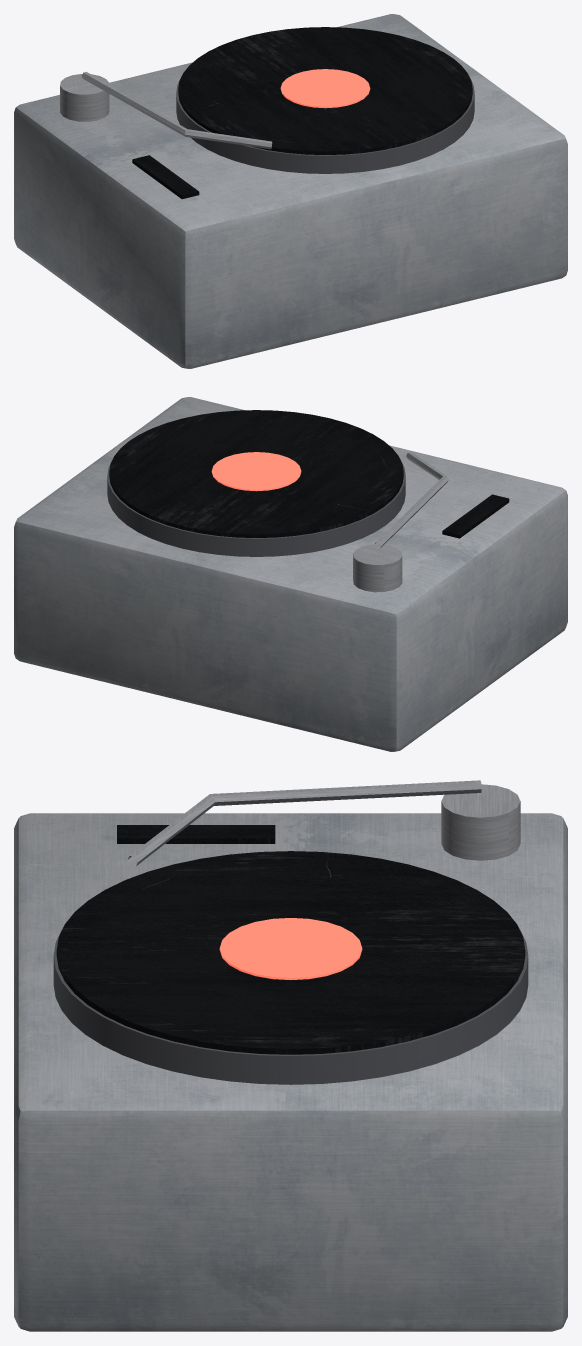
Rendered from dj_turntable.gltf.
The picture shows the model from 3 angles, top to bottom: view 1: azimuth 30°, elevation 25°; view 2: azimuth 150°, elevation 25°; view 3: azimuth 270°, elevation 25°; orthographic projection. The views are drawn at different scales.
Visible parts, largest first — view 1: dj_turntable; view 2: dj_turntable; view 3: dj_turntable.
Part boxes in pixels (x1=…): dj_turntable: x1=14, y1=14, x2=567, y2=368; dj_turntable: x1=14, y1=397, x2=567, y2=751; dj_turntable: x1=14, y1=780, x2=567, y2=1331.
Bounding box in the file's own units: 0.45 × 0.2035 × 0.35.
Materials: 5 (4 with a texture image).
